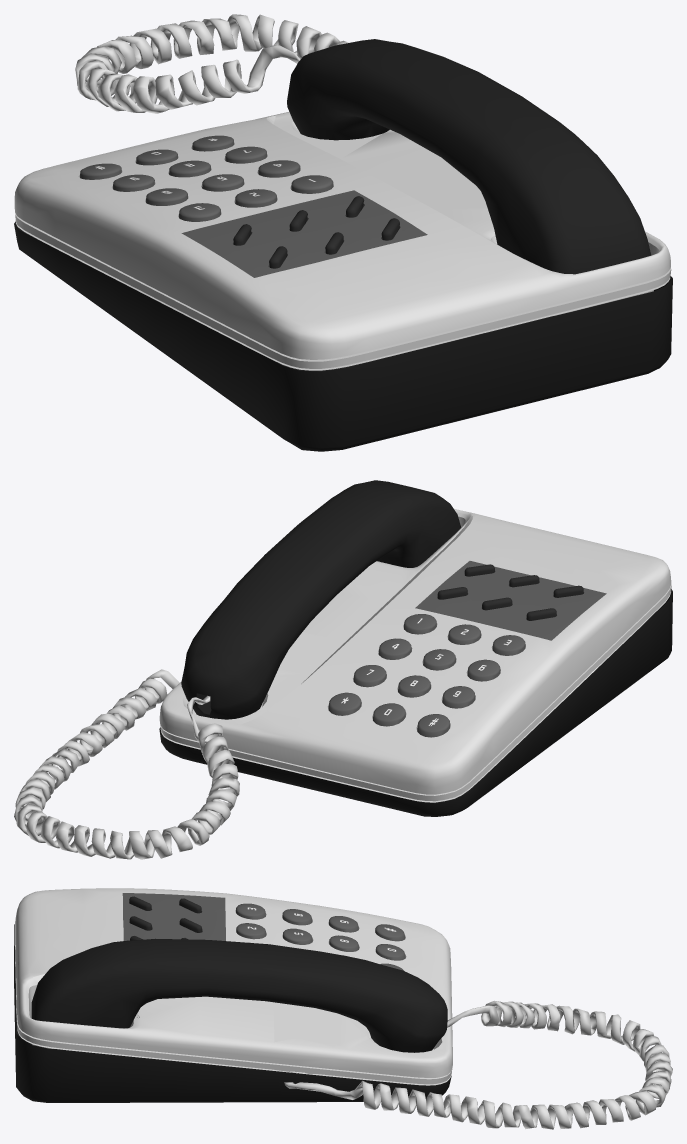
The model's file is telephone.glb.
The picture shows the model from 3 angles, top to bottom: view 1: azimuth 30°, elevation 25°; view 2: azimuth 150°, elevation 25°; view 3: azimuth 270°, elevation 25°; orthographic projection. The views are drawn at different scales.
Parts seen in each view (by area): view 1: Telephone_Material #57_0; view 2: Telephone_Material #57_0; view 3: Telephone_Material #57_0.
Boxes of the visible parts, x1,y1,x2,y2 form: Telephone_Material #57_0: (14, 14, 672, 451); Telephone_Material #57_0: (14, 480, 672, 859); Telephone_Material #57_0: (14, 888, 672, 1129).
Size of the model in its own units: 4.82 by 1.96 by 8.41.
1 material, 1 textured.
